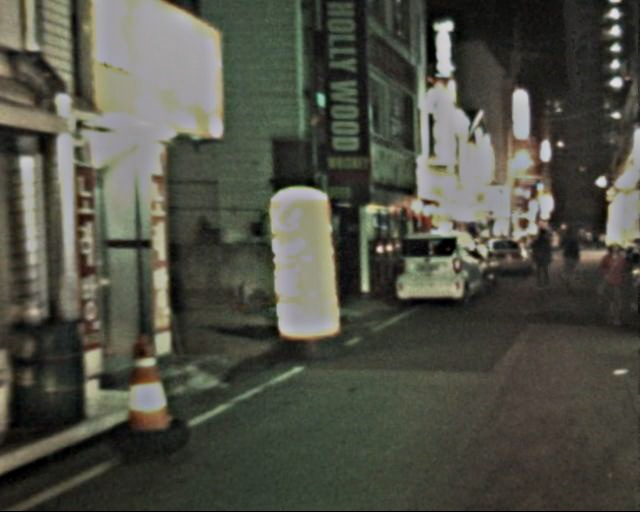person: (596, 239, 637, 331), (529, 227, 565, 298), (558, 227, 590, 295)
